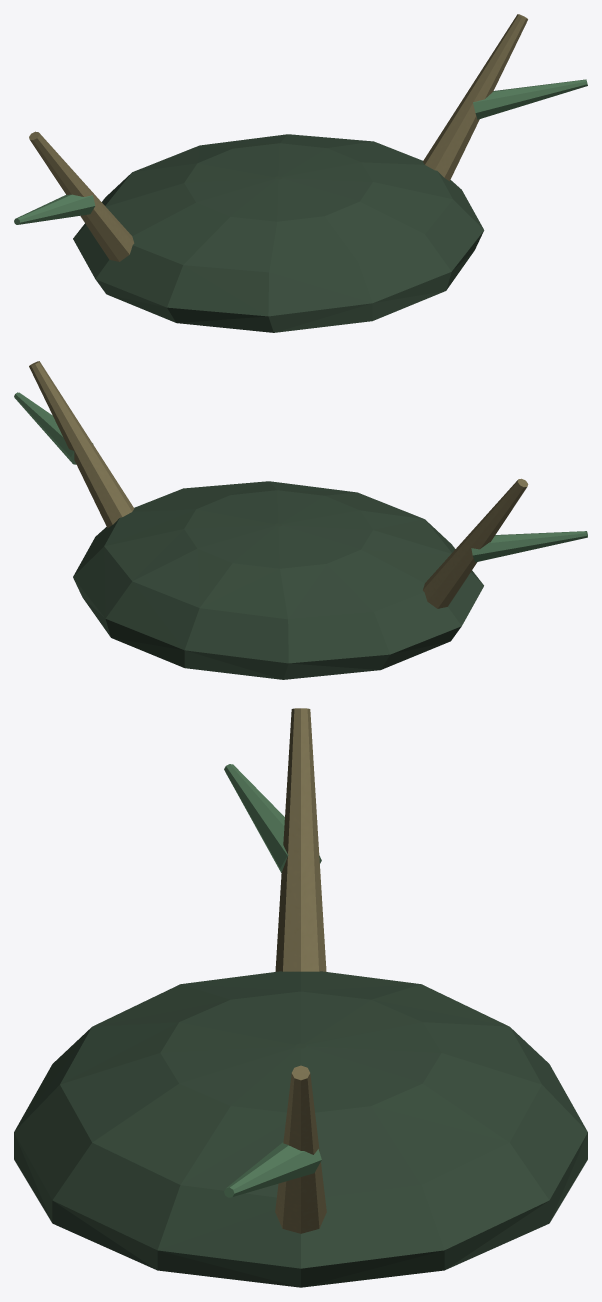
File: pinecrown.glb
3 views of the same model, one above another, from view 1: azimuth 30°, elevation 25°; view 2: azimuth 150°, elevation 25°; view 3: azimuth 270°, elevation 25° (orthographic). The views are drawn at different scales.
Visible parts, largest first — view 1: Evergreen Crown.002; view 2: Evergreen Crown.002; view 3: Evergreen Crown.002.
Boxes of the visible parts, <box> form: Evergreen Crown.002: <box>14,14,587,332</box>; Evergreen Crown.002: <box>14,361,587,679</box>; Evergreen Crown.002: <box>14,708,587,1287</box>.
Size of the model in its own units: 0.92 by 0.2741 by 0.5232.
2 materials, 1 textured.
